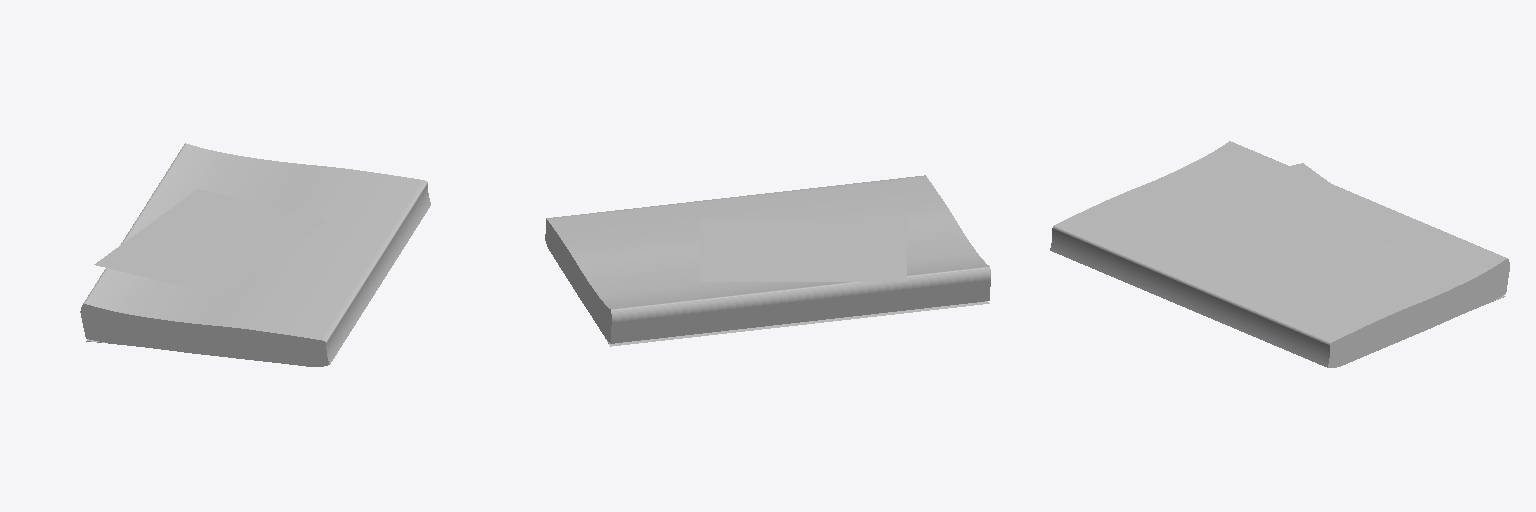
File: book.obj
3 views of the same model, side by side, from view 1: azimuth 30°, elevation 25°; view 2: azimuth 150°, elevation 25°; view 3: azimuth 270°, elevation 25° (orthographic).
Visible parts, largest first — view 1: instance_2.001_ID111, instance_3.004_ID173, instance_2_ID96; view 2: instance_2.001_ID111, instance_2_ID96, instance_3.004_ID173, instance_2.002_ID121; view 3: instance_2.001_ID111, instance_3.004_ID173, instance_2_ID96.
Boxes of the visible parts, box(x1,y1,x2,y2) form: instance_2.001_ID111: box(84, 144, 430, 363); instance_3.004_ID173: box(94, 189, 327, 296); instance_2_ID96: box(80, 143, 329, 366); instance_2.001_ID111: box(546, 175, 989, 309); instance_2_ID96: box(545, 219, 990, 346); instance_3.004_ID173: box(700, 218, 906, 281); instance_2.002_ID121: box(604, 301, 988, 345); instance_2.001_ID111: box(1050, 141, 1507, 367); instance_3.004_ID173: box(1173, 163, 1405, 270); instance_2_ID96: box(1233, 142, 1509, 367).
Size of the model in its own units: 9.14 by 0.8553 by 9.14.